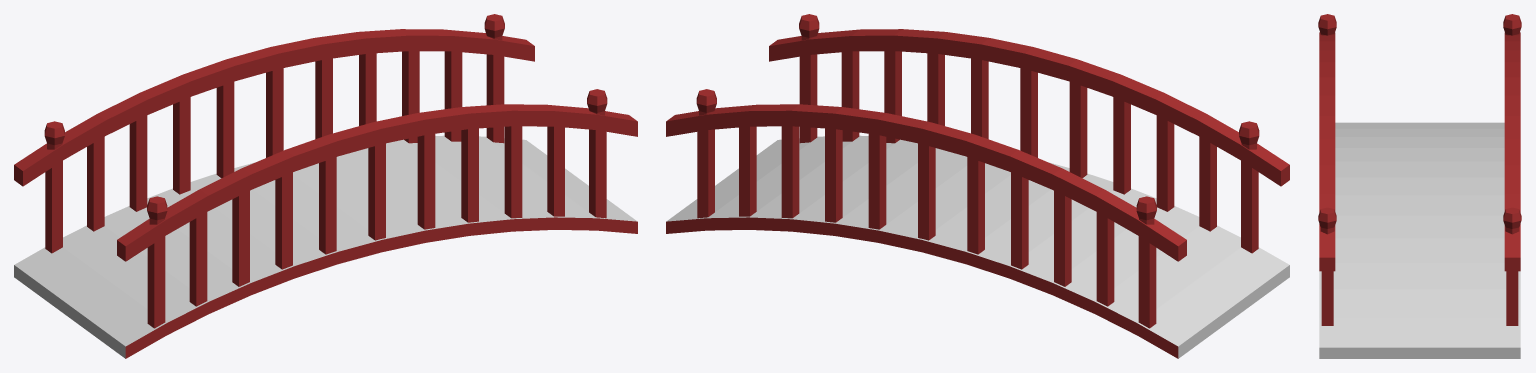
File: Asian_Prop_Bridge_02.FBX
3 renders of one model, left to right at view 1: azimuth 30°, elevation 25°; view 2: azimuth 150°, elevation 25°; view 3: azimuth 270°, elevation 25°, orthographic. The views are drawn at different scales.
Parts seen in each view (by area): view 1: Asian_Prop_Bridge_02; view 2: Asian_Prop_Bridge_02; view 3: Asian_Prop_Bridge_02.
Part boxes in pixels (x1,y1,x2,y2): Asian_Prop_Bridge_02: (14,14,637,358); Asian_Prop_Bridge_02: (666,14,1289,358); Asian_Prop_Bridge_02: (1318,14,1521,358).
Size of the model in its own units: 9852 by 3084 by 3756.
